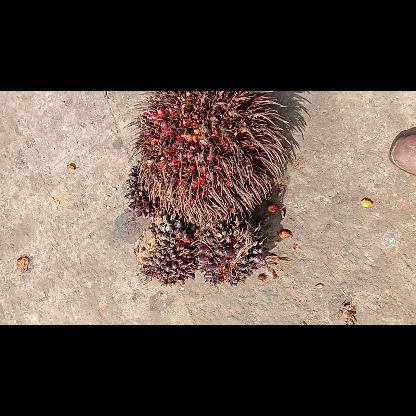TBS abnormal: (195, 216, 267, 290), (136, 209, 197, 287), (124, 162, 164, 218)
Terlalu masak: (128, 91, 292, 229)
